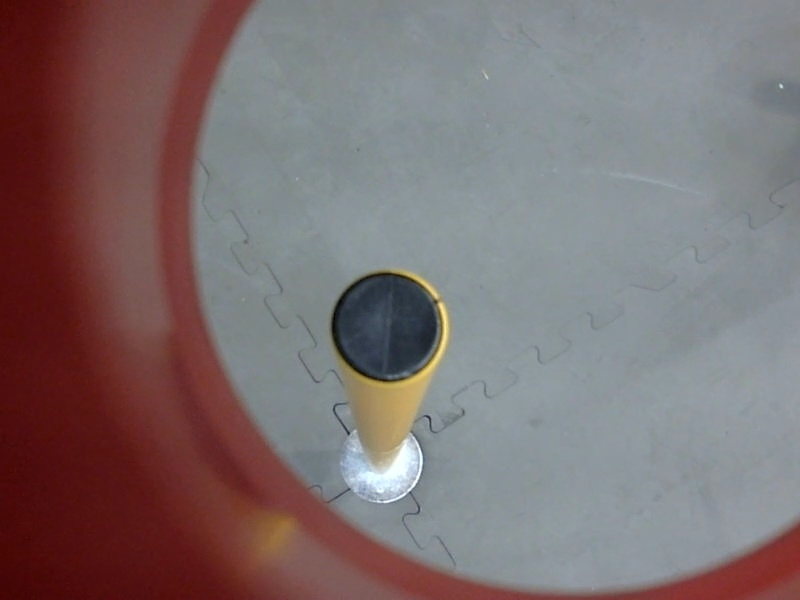tip: (326, 263, 454, 396)
